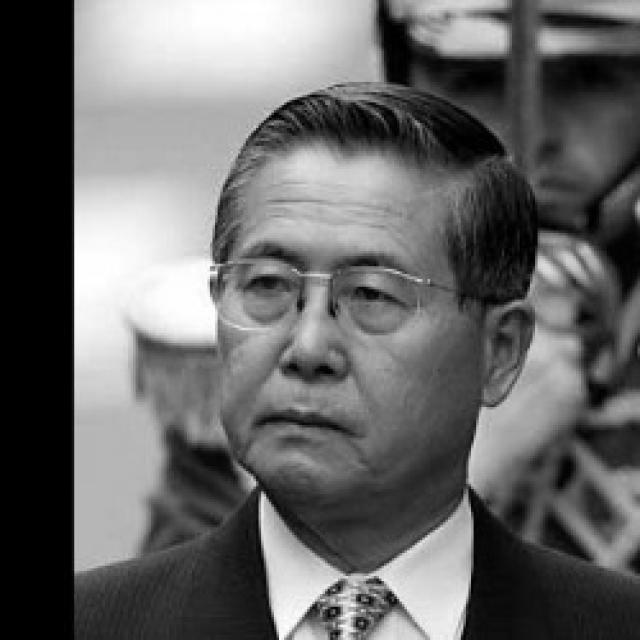real: (209, 128, 482, 516), (225, 255, 409, 318)
